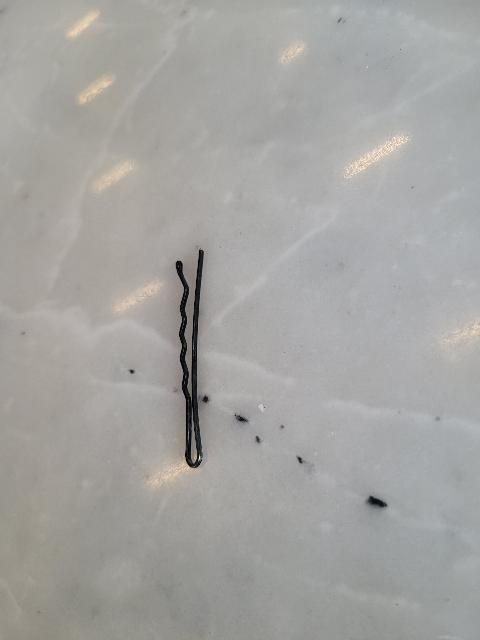Metal: (166, 239, 217, 485)
